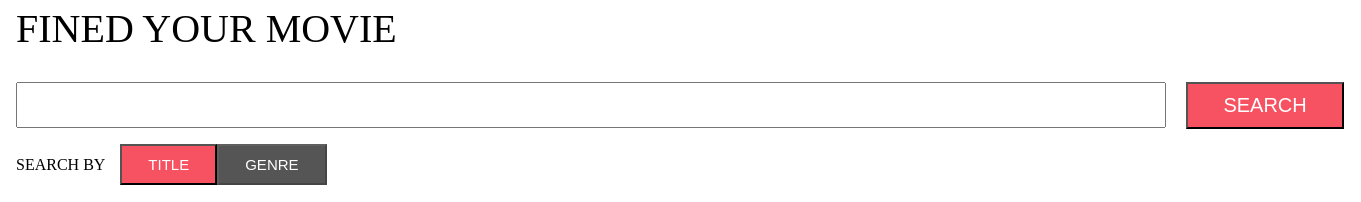
Test: SearchPanel rendering › simulate click on button SEARCH
The image size is (1361, 202).
Click the button "SEARCH". click: (1265, 106)
box: x1=1186 y1=82 x2=1344 y2=129
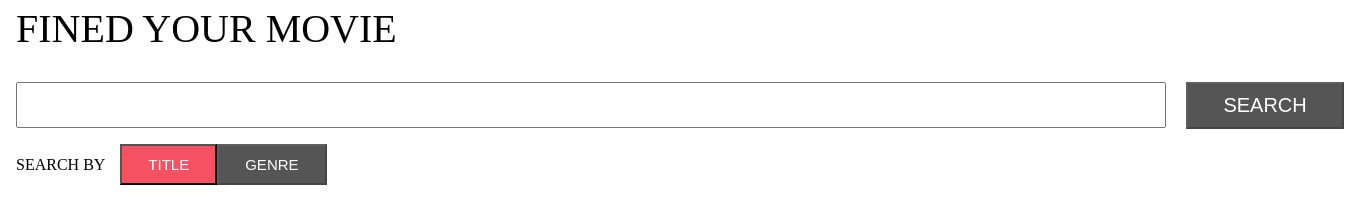
Check: the button "SEARCH" is disabled, box x1=1186 y1=82 x2=1344 y2=129
